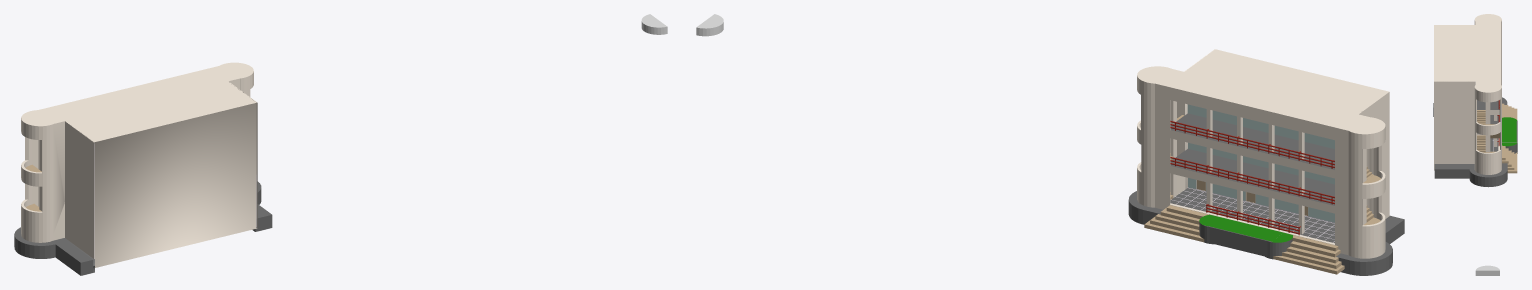
Rendered from EdificioSeparadoParteFinal.fbx.
3 renders of one model, left to right at view 1: azimuth 30°, elevation 25°; view 2: azimuth 150°, elevation 25°; view 3: azimuth 270°, elevation 25°, orthographic. The views are drawn at different scales.
Visible parts, largest first — view 1: Edificio, Cube.009, Cube.012, Cylinder.001; view 2: Edificio, salonesypiso, escalerasbajas, columnas, Cube.009, pasto, barroteSegundoPiso, BbarrotesPrimerPiso, Cube.008, BarrotesPlantaBaja, Cube.002, Cube.012 (+1 smaller); view 3: Edificio, Cube.012, escalerasbajas, Cube.008, salonesypiso, Cube.002, Cylinder.001, Cube.015, Cube.018, pasto.
Part boxes in pixels (left/top/right/bottom): Edificio: left=21, top=62, right=257, bottom=267; Cube.009: left=14, top=227, right=94, bottom=275; Cube.012: left=252, top=181, right=272, bottom=231; Cylinder.001: left=641, top=14, right=667, bottom=34; Edificio: left=1137, top=49, right=1389, bottom=258; salonesypiso: left=1170, top=104, right=1334, bottom=244; escalerasbajas: left=1144, top=205, right=1344, bottom=274; columnas: left=1206, top=109, right=1304, bottom=234; Cube.009: left=1336, top=215, right=1404, bottom=275; pasto: left=1199, top=222, right=1292, bottom=259; barroteSegundoPiso: left=1170, top=120, right=1334, bottom=168; BbarrotesPrimerPiso: left=1170, top=157, right=1334, bottom=204; Cube.008: left=1199, top=214, right=1292, bottom=242; BarrotesPlantaBaja: left=1206, top=204, right=1300, bottom=235; Cube.002: left=1170, top=100, right=1185, bottom=197; Cube.012: left=1128, top=191, right=1162, bottom=224; Edificio: left=1434, top=14, right=1501, bottom=174; Cube.012: left=1434, top=163, right=1507, bottom=187; escalerasbajas: left=1502, top=103, right=1517, bottom=173; Cube.008: left=1502, top=117, right=1517, bottom=146; salonesypiso: left=1475, top=82, right=1499, bottom=151; Cube.002: left=1485, top=102, right=1490, bottom=152; Cylinder.001: left=1475, top=265, right=1499, bottom=275; Cube.015: left=1477, top=135, right=1485, bottom=152; Cube.018: left=1477, top=110, right=1485, bottom=124; pasto: left=1505, top=121, right=1517, bottom=153.
Size of the model in its own units: 10165 by 1974 by 1638.
